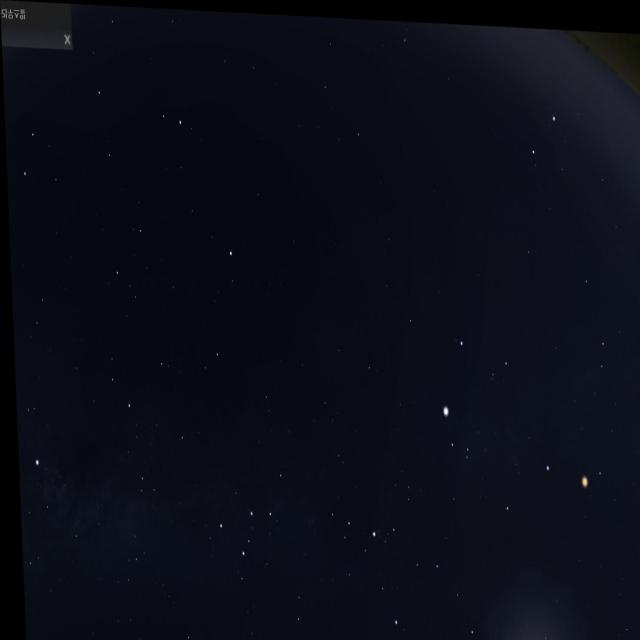cassiopeia: (201, 442, 290, 578)
moon: (500, 618, 554, 640)
